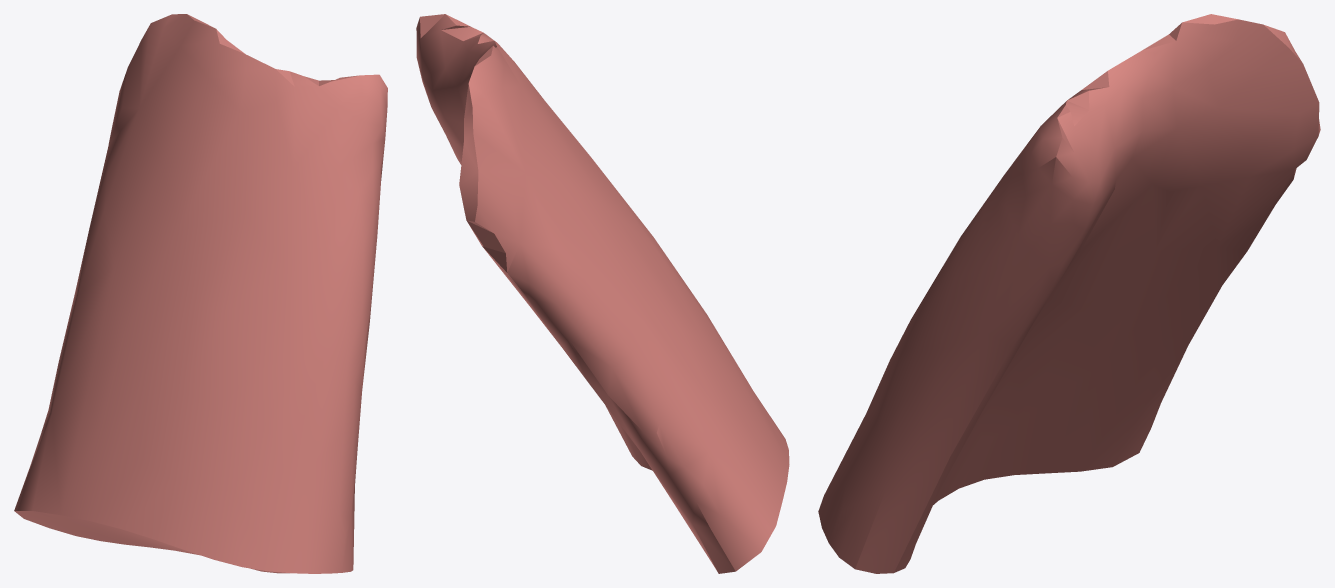
File: fma39348-n_mm1932m.glb
3 renders of one model, left to right at view 1: azimuth 30°, elevation 25°; view 2: azimuth 150°, elevation 25°; view 3: azimuth 270°, elevation 25°, orthographic. The views are drawn at different scales.
Visible parts, largest first — view 1: FMA39348-N_MM1932M; view 2: FMA39348-N_MM1932M; view 3: FMA39348-N_MM1932M.
Boxes of the visible parts, bbox=[...] form: FMA39348-N_MM1932M: bbox=[14, 14, 387, 573]; FMA39348-N_MM1932M: bbox=[416, 14, 789, 573]; FMA39348-N_MM1932M: bbox=[818, 14, 1320, 573].
Size of the model in its own units: 0.0117 by 0.0149 by 0.0121.
